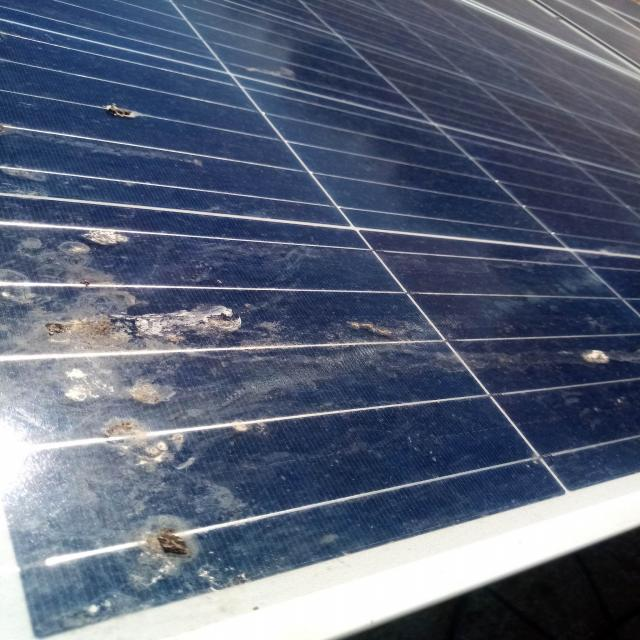faulty: (0, 2, 640, 617)
